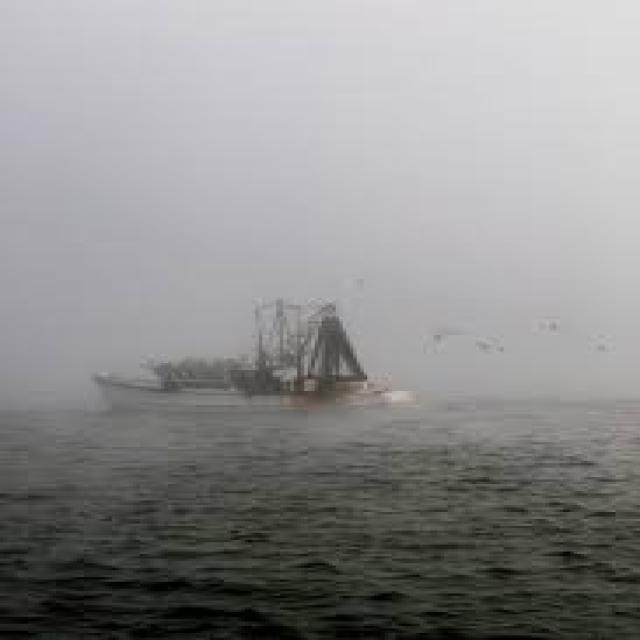fishing boat: (91, 293, 414, 414)
